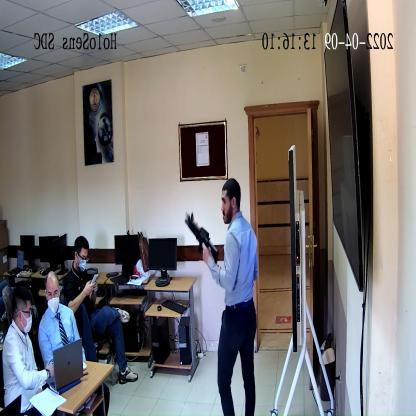handgun: (186, 211, 218, 266)
